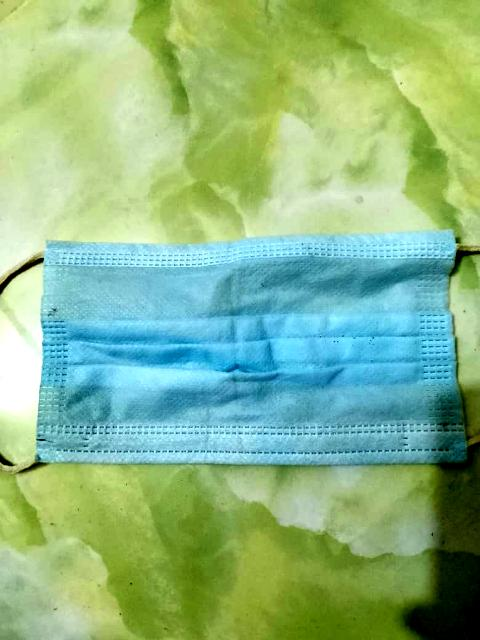mask: (0, 204, 480, 502)
